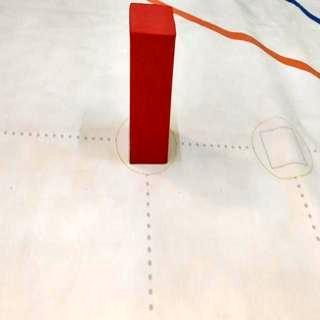redbox: (129, 2, 176, 165)
